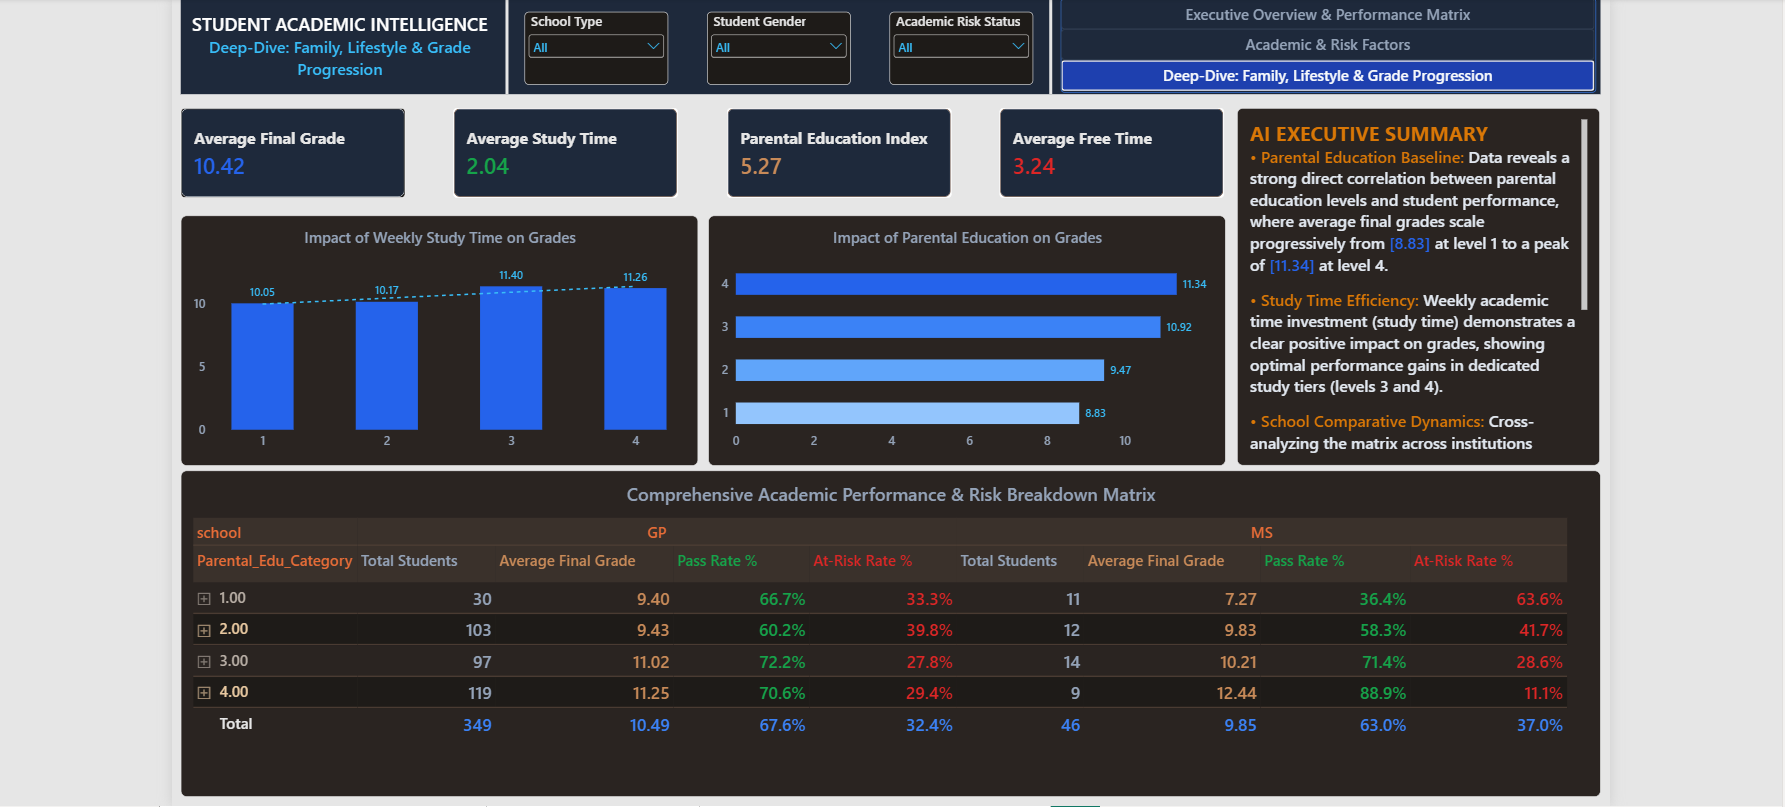

The page's visual inventory and layout, read from the dashboard file:
{"tool":"powerbi","page":{"name":"Deep-Dive: Family, Lifestyle & Grade Progression","canvas":[1920,1080],"ordinal":2},"visuals":[{"type":"shape","box":[10.9,0,1896.5,128.5],"z":0},{"type":"textbox","box":[12.7,18.1,421.7,97.7],"z":1000},{"type":"shape","box":[329.4,0,237.1,128.5],"z":2000},{"type":"slicer","fields":{"Values":["student.school"]},"box":[470.5,18.1,191.8,97.7],"z":3000},{"type":"slicer","fields":{"Values":["student.sex"]},"box":[714.8,18.1,191.8,97.7],"z":4000},{"type":"slicer","fields":{"Values":["student.Risk Status"]},"box":[959.1,18.1,191.8,97.7],"z":5000},{"type":"shape","box":[1055,0,237.1,128.5],"z":6000},{"type":"pageNavigator","box":[1187.1,0,714.8,126.7],"z":7000},{"type":"cardVisual","fields":{"Data":["Key Measuares.Average Final Grade"]},"box":[10.9,146.6,300,120],"z":8000},{"type":"cardVisual","fields":{"Data":["Key Measuares.Average Study Time"]},"box":[375.8,146.6,300,120],"z":9000},{"type":"cardVisual","fields":{"Data":["Key Measuares.Average Free Time"]},"box":[1105.7,146.6,300,120],"z":10000},{"type":"textbox","box":[1422.4,146.6,485,477.8],"z":11000},{"type":"cardVisual","fields":{"Data":["Key Measuares.Parental Education Index"]},"box":[740.8,146.6,300,120],"z":12000},{"type":"pivotTable","title":"Comprehensive Academic Performance & Risk Breakdown Matrix","fields":{"Columns":["student.school"],"Rows":["student.Parental_Edu_Category","student.studytime"],"Values":["Key Measuares.Total Students","Key Measuares.Average Final Grade","Key Measuares.Pass Rate %","Key Measuares.At-Risk Rate %"]},"box":[10.9,631.6,1896.5,436.1],"z":13000},{"type":"clusteredColumnChart","title":"Impact of Weekly Study Time on Grades","fields":{"Category":["student.studytime"],"Y":["Key Measuares.Average Final Grade"]},"box":[10.9,291.4,691,334],"z":14000},{"type":"clusteredBarChart","title":"Impact of Parental Education on Grades","fields":{"Category":["student.Parental_Edu_Category"],"Y":["Key Measuares.Average Final Grade"]},"box":[716.6,291.4,691,334],"z":15000}]}

Visuals, with their boxes on the page's 1920x1080 design canvas (x1, y1, x2, y2). These are canvas units, not pixel positions in the 1785x807 screenshot, which may show the page scaled, cropped or inside an application window:
shape: region(11, 0, 1907, 128)
textbox: region(13, 18, 434, 116)
shape: region(329, 0, 566, 128)
slicer - student.school: region(470, 18, 662, 116)
slicer - student.sex: region(715, 18, 907, 116)
slicer - student.Risk Status: region(959, 18, 1151, 116)
shape: region(1055, 0, 1292, 128)
pageNavigator: region(1187, 0, 1902, 127)
cardVisual - Key Measuares.Average Final Grade: region(11, 147, 311, 267)
cardVisual - Key Measuares.Average Study Time: region(376, 147, 676, 267)
cardVisual - Key Measuares.Average Free Time: region(1106, 147, 1406, 267)
textbox: region(1422, 147, 1907, 624)
cardVisual - Key Measuares.Parental Education Index: region(741, 147, 1041, 267)
"Comprehensive Academic Performance & Risk Breakdown Matrix" pivotTable: region(11, 632, 1907, 1068)
"Impact of Weekly Study Time on Grades" clusteredColumnChart: region(11, 291, 702, 625)
"Impact of Parental Education on Grades" clusteredBarChart: region(717, 291, 1408, 625)
